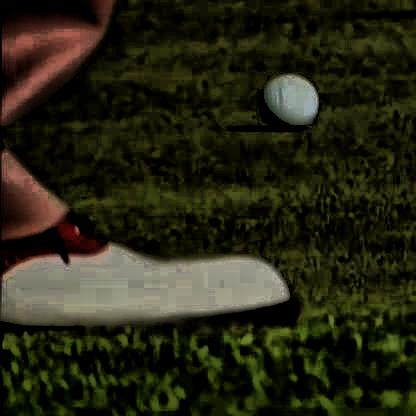golfball: (257, 72, 316, 128)
